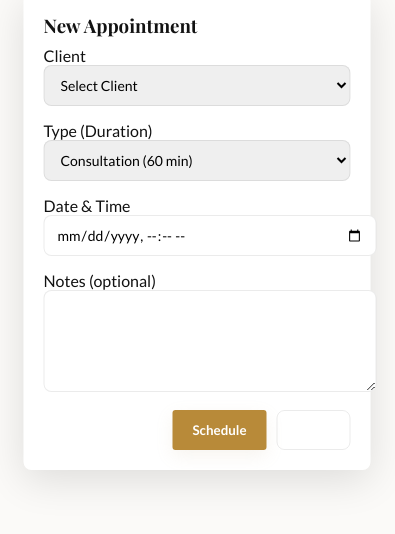
Test case: CreateAppointment › shows error when required fields are missing
This screenshot has width=395, height=534.
Click the button "Schedule".
click(220, 430)  # box [172, 410, 267, 450]
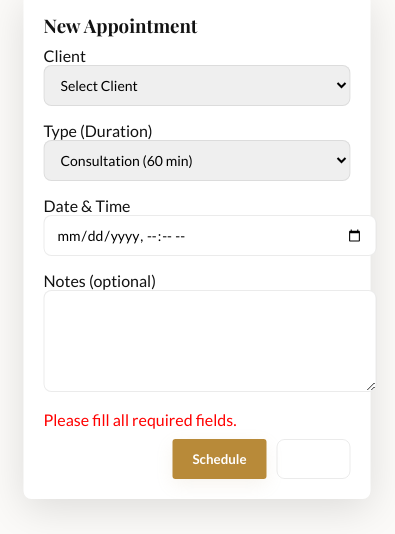
expect the text "Please fill all required fields." is shown: met, box [44, 410, 237, 429]
